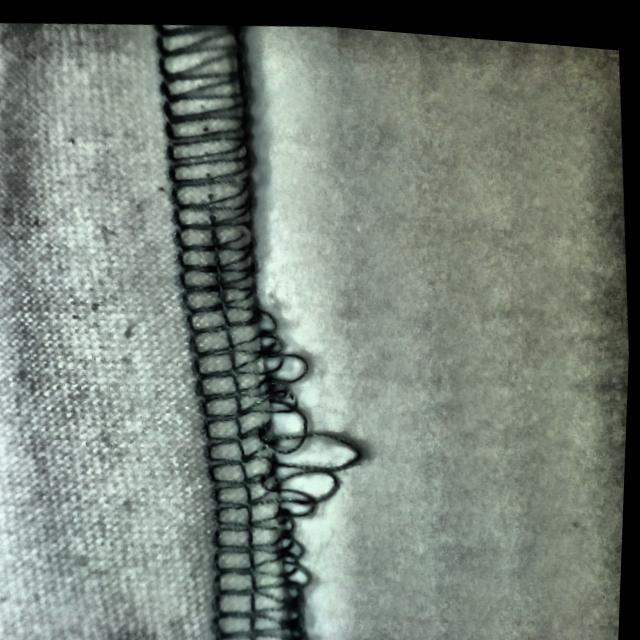Stitch: (160, 292, 393, 627)
